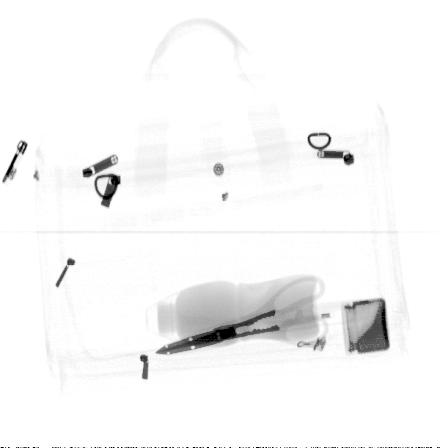Scissors: (154, 273, 331, 354)
